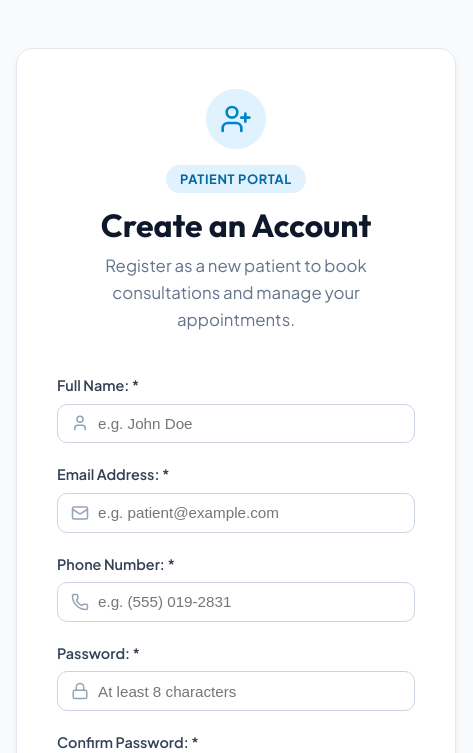
Test: Patient Registration Flow (/register) › submits valid registration payload, shows success and redirects to login
Type "Clara Oswald" into the field labelled "Full Name: *" at [236, 423], box [57,404,415,443]
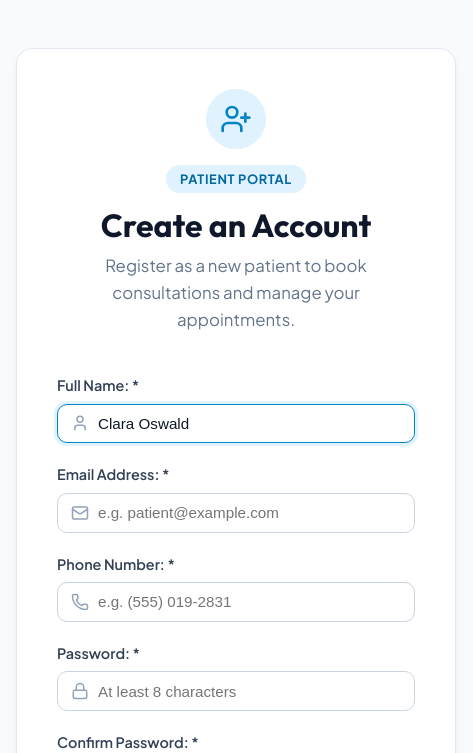
Type "clara@example.com" into the field labelled "Email Address: *" at [236, 513], box [57,493,415,533]
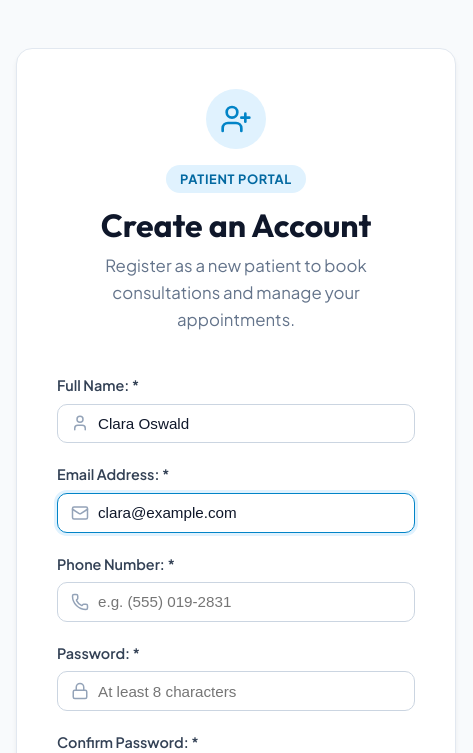
Type "555-0199" into the field labelled "Phone Number: *" at [236, 602], box [57,582,415,622]
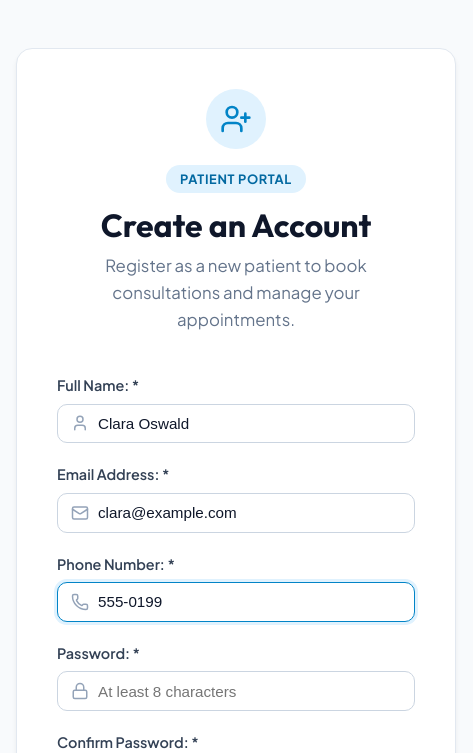
Type "ImpossibleGirl@2026" into the password field labelled "Password: *" at [236, 691], box [57,671,415,711]
(page scrolled)
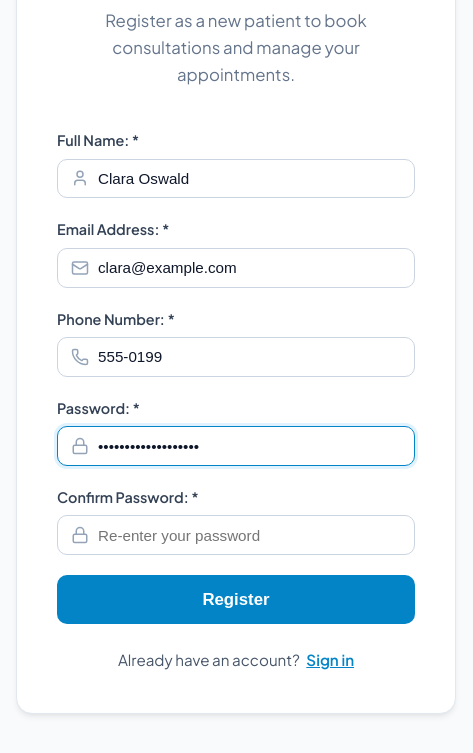
Type "ImpossibleGirl@2026" into the password field labelled "Confirm Password: *" at [236, 535], box [57,515,415,555]
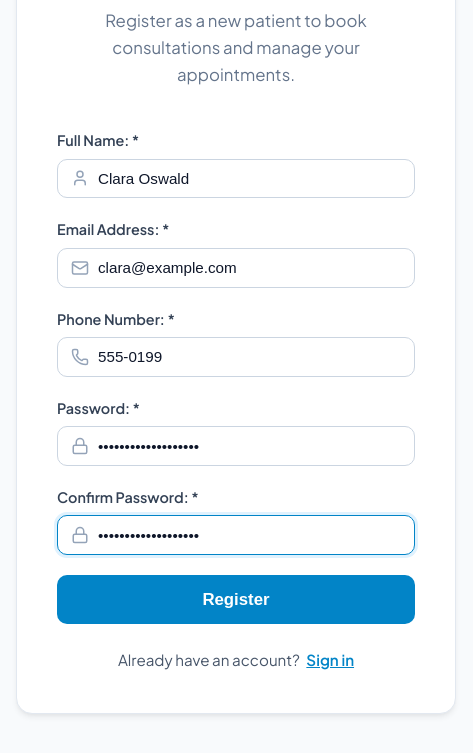
Click the button "Register" at [236, 600], box [57,575,415,624]
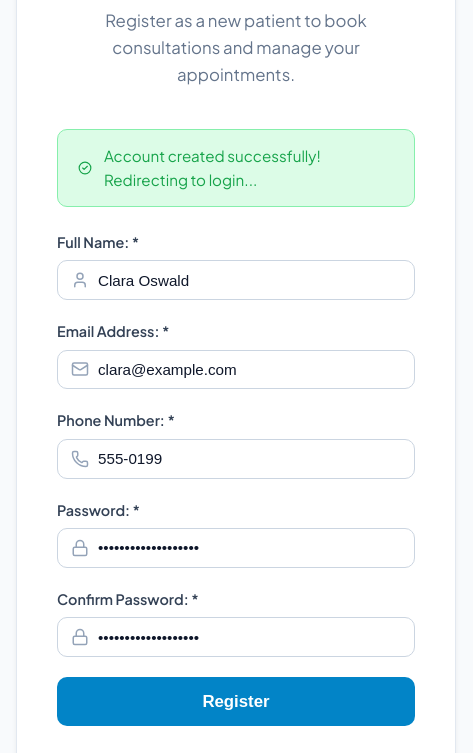
Now the text "Account created successfully! Redirecting to login..." is shown, box [104,146,321,189]
